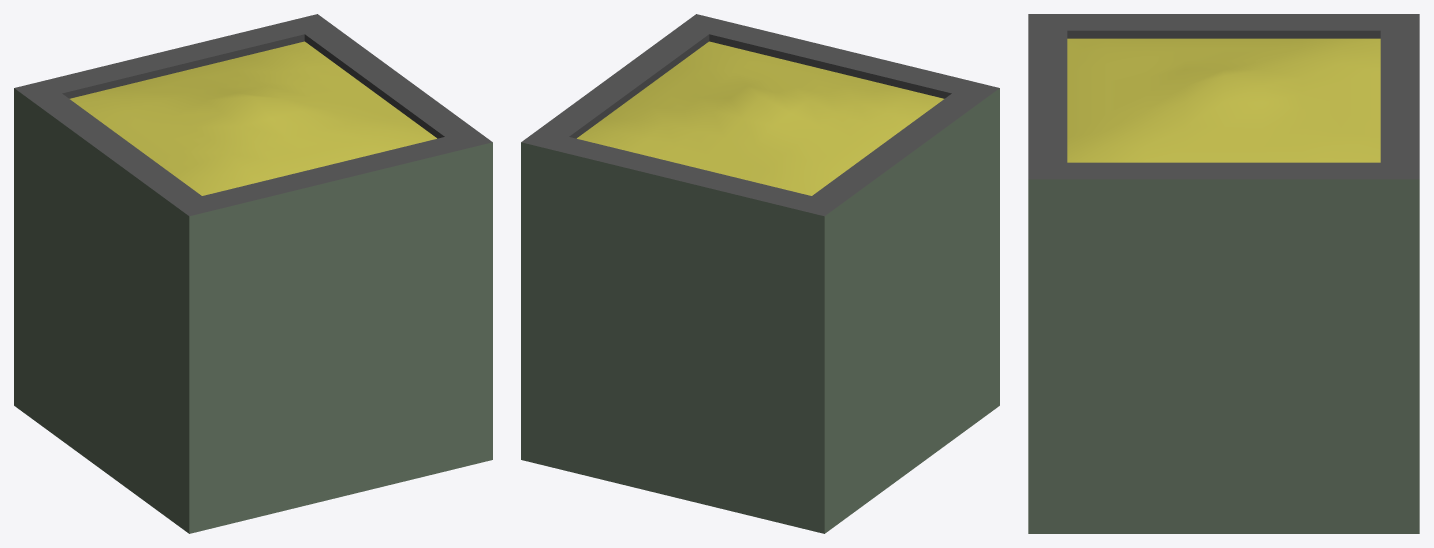
The model's file is sandBox.fbx.
3 renders of one model, left to right at view 1: azimuth 30°, elevation 25°; view 2: azimuth 150°, elevation 25°; view 3: azimuth 270°, elevation 25°, orthographic. The views are drawn at different scales.
Parts seen in each view (by area): view 1: Объект_Куб; view 2: Объект_Куб; view 3: Объект_Куб.
Part boxes in pixels (bbox=[...]): Объект_Куб: bbox=[14, 14, 492, 533]; Объект_Куб: bbox=[521, 14, 999, 533]; Объект_Куб: bbox=[1028, 14, 1419, 533].
Bounding box in the file's own units: 200 × 211 × 200.
